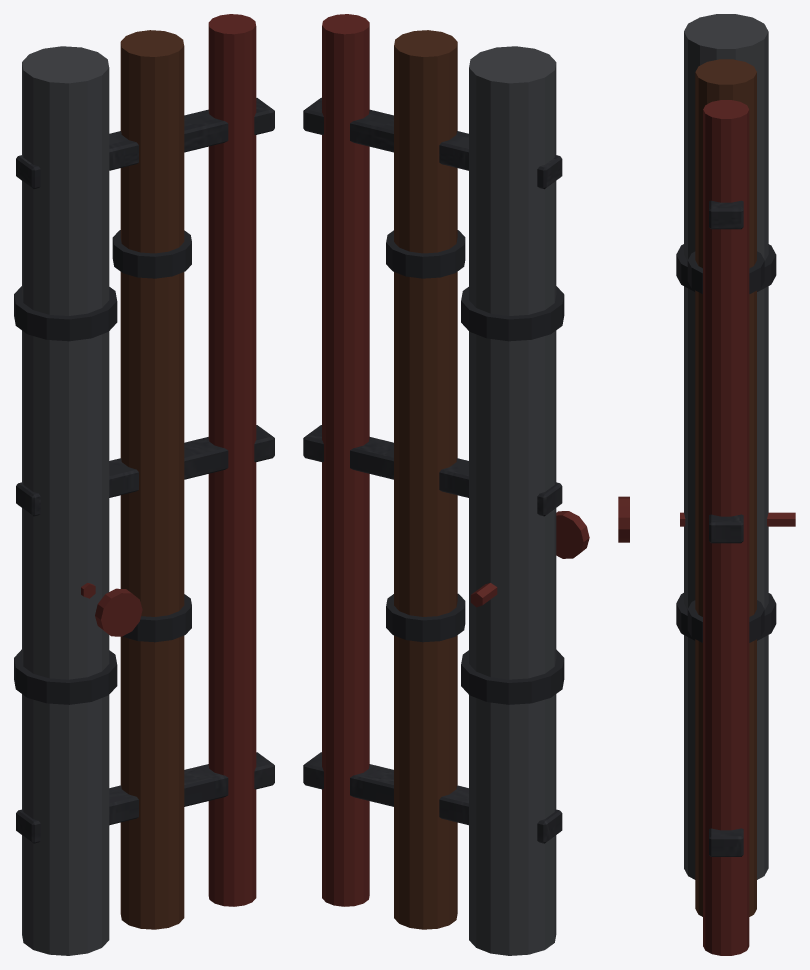
Rendered from pipe_cluster.glb.
The picture shows the model from 3 angles, left to right: view 1: azimuth 30°, elevation 25°; view 2: azimuth 150°, elevation 25°; view 3: azimuth 270°, elevation 25°; orthographic projection. The views are drawn at different scales.
Parts seen in each view (by area): view 1: body; view 2: body; view 3: body.
Boxes of the visible parts, x1,y1,x2,y2 form: body: [14, 14, 274, 955]; body: [303, 14, 589, 955]; body: [618, 14, 795, 955].
Size of the model in its own units: 0.7067 by 2.4 by 0.46.
4 materials, 4 textured.
